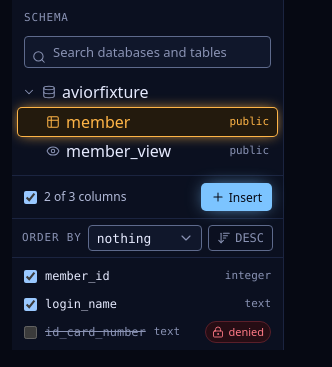
SchemaTree › filters the tree by name
The image size is (332, 367).
Type "view" into the search field with placeholder "Search databases and tables".
click(148, 52); type("view")  # box [24,36,271,68]
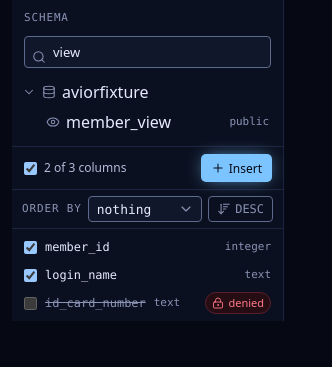
Expected: the elements with class "node-label" read "member_view", in this order, [66,110,171,134]
